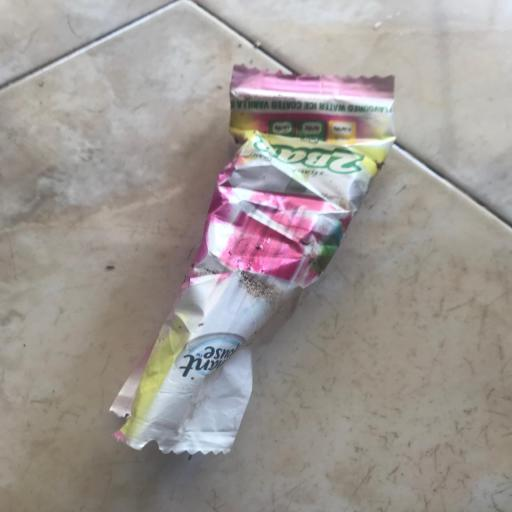waste: (92, 52, 403, 467)
